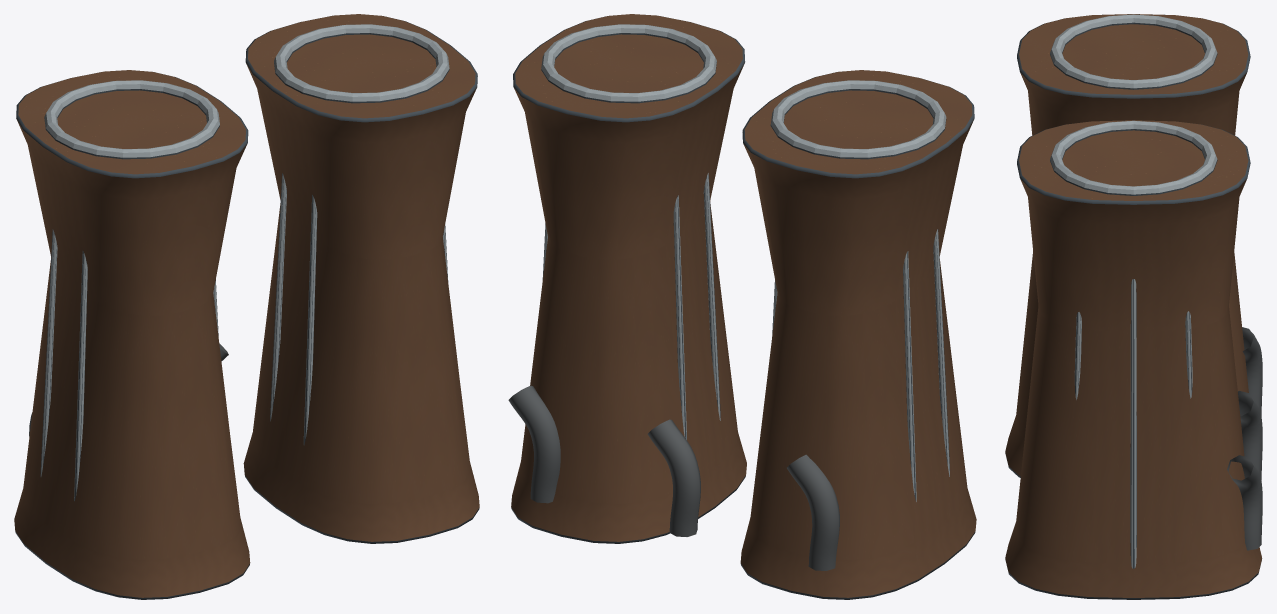
File: cooling_bank.glb
3 renders of one model, left to right at view 1: azimuth 30°, elevation 25°; view 2: azimuth 150°, elevation 25°; view 3: azimuth 270°, elevation 25°, orthographic. The views are drawn at different scales.
Parts seen in each view (by area): view 1: GT_0130_cooling_bank; view 2: GT_0130_cooling_bank; view 3: GT_0130_cooling_bank.
Boxes of the visible parts, box(x1,y1,x2,y2) form: GT_0130_cooling_bank: box(14, 14, 479, 599); GT_0130_cooling_bank: box(508, 14, 976, 599); GT_0130_cooling_bank: box(1005, 14, 1262, 599).
Bounding box in the file's own units: 5.87 × 5.9 × 3.38.
Materials: 1 (1 with a texture image).
